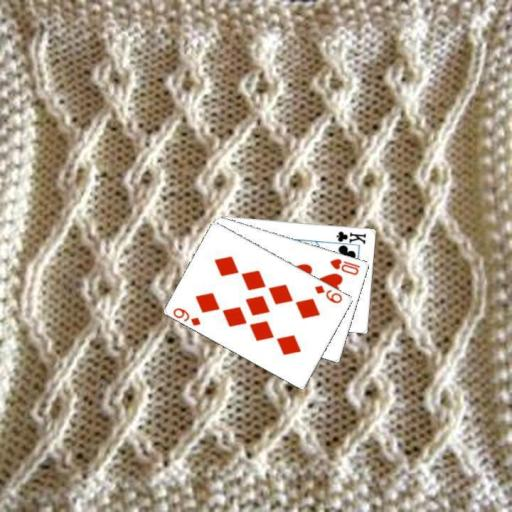card-corner: (327, 255, 362, 277), (330, 228, 368, 248), (170, 304, 203, 327), (312, 282, 344, 305)
